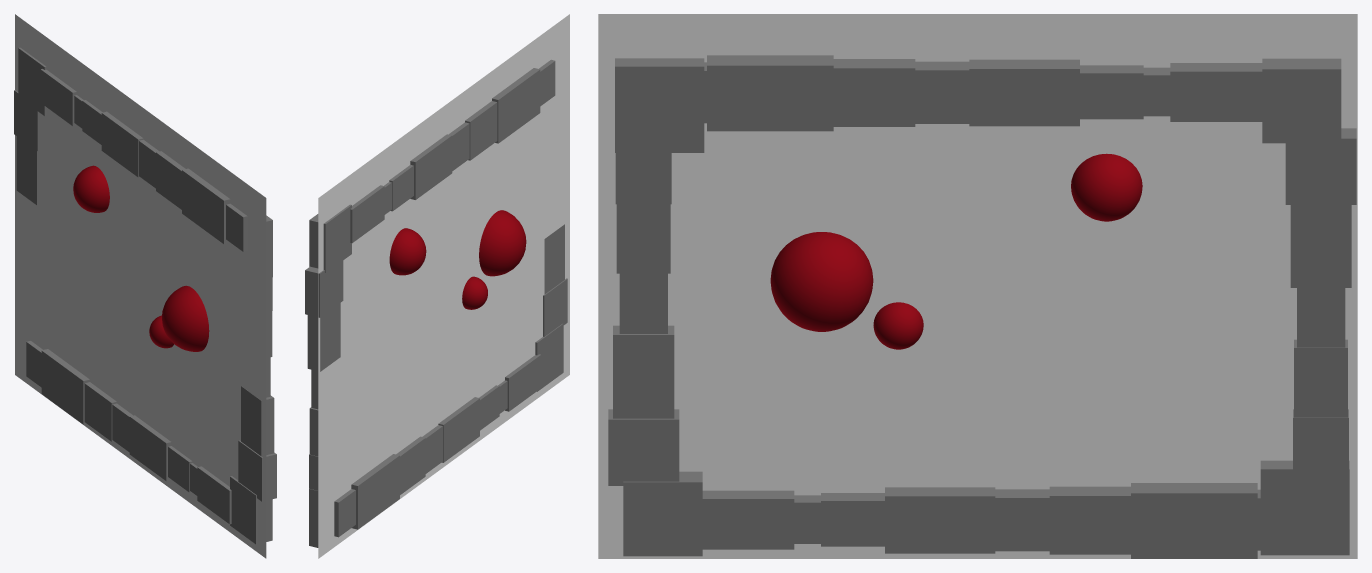
Rendered from wallFramed.fbx.
The picture shows the model from 3 angles, left to right: view 1: azimuth 30°, elevation 25°; view 2: azimuth 150°, elevation 25°; view 3: azimuth 270°, elevation 25°; orthographic projection. The views are drawn at different scales.
Visible parts, largest first — view 1: WallFramed; view 2: WallFramed; view 3: WallFramed.
Boxes of the visible parts, box(x1,y1,x2,y2) form: WallFramed: box(14, 14, 276, 558); WallFramed: box(305, 14, 569, 558); WallFramed: box(598, 14, 1357, 558).
Size of the model in its own units: 200 by 1168 by 1476.
